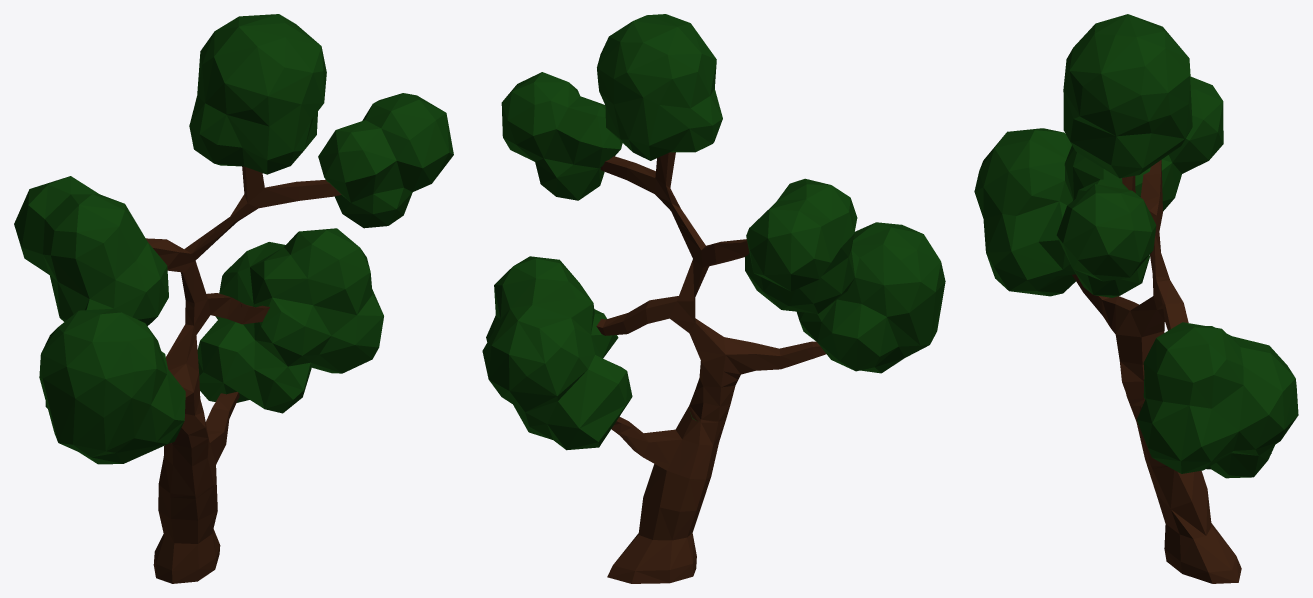
File: Tree5_Destr.FBX
The picture shows the model from 3 angles, left to right: view 1: azimuth 30°, elevation 25°; view 2: azimuth 150°, elevation 25°; view 3: azimuth 270°, elevation 25°; orthographic projection. The views are drawn at different scales.
Parts seen in each view (by area): view 1: LowPoly_Tree_05_lowpoly_tree_03_Cube_Part_6, LowPoly_Tree_05_lowpoly_tree_03_Cube_Part_1, LowPoly_Tree_05_lowpoly_tree_03_Cube_Part_8, LowPoly_Tree_05_lowpoly_tree_03_Cube_Part_16, LowPoly_Tree_05_lowpoly_tree_03_Cube_Part_9, LowPoly_Tree_05_lowpoly_tree_03_Cube_Part_12, LowPoly_Tree_05_lowpoly_tree_03_Cube_Part_3, LowPoly_Tree_05_lowpoly_tree_03_Cube_Part_14, LowPoly_Tree_05_lowpoly_tree_03_Cube_Part_17, LowPoly_Tree_05_lowpoly_tree_03_Cube_Part_11, LowPoly_Tree_05_lowpoly_tree_03_Cube_Part_4, LowPoly_Tree_05_lowpoly_tree_03_Cube_Part_7 (+9 smaller); view 2: LowPoly_Tree_05_lowpoly_tree_03_Cube_Part_4, LowPoly_Tree_05_lowpoly_tree_03_Cube_Part_9, LowPoly_Tree_05_lowpoly_tree_03_Cube_Part_19, LowPoly_Tree_05_lowpoly_tree_03_Cube_Part_17, LowPoly_Tree_05_lowpoly_tree_03_Cube_Part_11, LowPoly_Tree_05_lowpoly_tree_03_Cube_Part_12, LowPoly_Tree_05_lowpoly_tree_03_Cube_Part_6, LowPoly_Tree_05_lowpoly_tree_03_Cube_Part_3, LowPoly_Tree_05_lowpoly_tree_03_Cube_Part_2, LowPoly_Tree_05_lowpoly_tree_03_Cube_Part_7, LowPoly_Tree_05_lowpoly_tree_03_Cube_Part_13_Part_1, LowPoly_Tree_05_lowpoly_tree_03_Cube_Part_18 (+8 smaller); view 3: LowPoly_Tree_05_lowpoly_tree_03_Cube_Part_6, LowPoly_Tree_05_lowpoly_tree_03_Cube_Part_1, LowPoly_Tree_05_lowpoly_tree_03_Cube_Part_3, LowPoly_Tree_05_lowpoly_tree_03_Cube_Part_17, LowPoly_Tree_05_lowpoly_tree_03_Cube_Part_15, LowPoly_Tree_05_lowpoly_tree_03_Cube_Part_5, LowPoly_Tree_05_lowpoly_tree_03_Cube_Part_4, LowPoly_Tree_05_lowpoly_tree_03_Cube_Part_18, LowPoly_Tree_05_lowpoly_tree_03_Cube_Part_9, LowPoly_Tree_05_lowpoly_tree_03_Cube_Part_13_Part_1, LowPoly_Tree_05_lowpoly_tree_03_Cube_Part_20, LowPoly_Tree_05_lowpoly_tree_03_Cube_Part_12 (+6 smaller).
Part boxes in pixels (bbox=[...]): LowPoly_Tree_05_lowpoly_tree_03_Cube_Part_6: bbox=[197, 254, 383, 417]; LowPoly_Tree_05_lowpoly_tree_03_Cube_Part_1: bbox=[228, 21, 399, 174]; LowPoly_Tree_05_lowpoly_tree_03_Cube_Part_8: bbox=[53, 202, 167, 302]; LowPoly_Tree_05_lowpoly_tree_03_Cube_Part_16: bbox=[41, 344, 147, 449]; LowPoly_Tree_05_lowpoly_tree_03_Cube_Part_9: bbox=[189, 14, 291, 162]; LowPoly_Tree_05_lowpoly_tree_03_Cube_Part_12: bbox=[216, 97, 398, 235]; LowPoly_Tree_05_lowpoly_tree_03_Cube_Part_3: bbox=[369, 93, 453, 207]; LowPoly_Tree_05_lowpoly_tree_03_Cube_Part_14: bbox=[310, 168, 406, 291]; LowPoly_Tree_05_lowpoly_tree_03_Cube_Part_17: bbox=[153, 468, 220, 583]; LowPoly_Tree_05_lowpoly_tree_03_Cube_Part_11: bbox=[14, 176, 121, 288]; LowPoly_Tree_05_lowpoly_tree_03_Cube_Part_4: bbox=[197, 228, 342, 350]; LowPoly_Tree_05_lowpoly_tree_03_Cube_Part_7: bbox=[40, 293, 134, 371]; LowPoly_Tree_05_lowpoly_tree_03_Cube_Part_4: bbox=[482, 259, 646, 428]; LowPoly_Tree_05_lowpoly_tree_03_Cube_Part_9: bbox=[605, 15, 722, 152]; LowPoly_Tree_05_lowpoly_tree_03_Cube_Part_19: bbox=[802, 267, 927, 371]; LowPoly_Tree_05_lowpoly_tree_03_Cube_Part_17: bbox=[607, 464, 709, 583]; LowPoly_Tree_05_lowpoly_tree_03_Cube_Part_11: bbox=[763, 181, 854, 282]; LowPoly_Tree_05_lowpoly_tree_03_Cube_Part_12: bbox=[536, 80, 687, 228]; LowPoly_Tree_05_lowpoly_tree_03_Cube_Part_6: bbox=[486, 271, 634, 450]; LowPoly_Tree_05_lowpoly_tree_03_Cube_Part_3: bbox=[501, 72, 587, 194]; LowPoly_Tree_05_lowpoly_tree_03_Cube_Part_2: bbox=[678, 224, 844, 363]; LowPoly_Tree_05_lowpoly_tree_03_Cube_Part_7: bbox=[847, 223, 930, 294]; LowPoly_Tree_05_lowpoly_tree_03_Cube_Part_13_Part_1: bbox=[643, 296, 798, 379]; LowPoly_Tree_05_lowpoly_tree_03_Cube_Part_18: bbox=[682, 211, 810, 291]; LowPoly_Tree_05_lowpoly_tree_03_Cube_Part_6: bbox=[1136, 320, 1286, 478]; LowPoly_Tree_05_lowpoly_tree_03_Cube_Part_1: bbox=[1063, 28, 1150, 199]; LowPoly_Tree_05_lowpoly_tree_03_Cube_Part_3: bbox=[1056, 187, 1156, 295]; LowPoly_Tree_05_lowpoly_tree_03_Cube_Part_17: bbox=[1146, 464, 1241, 583]; LowPoly_Tree_05_lowpoly_tree_03_Cube_Part_15: bbox=[981, 139, 1082, 243]; LowPoly_Tree_05_lowpoly_tree_03_Cube_Part_5: bbox=[980, 188, 1093, 301]; LowPoly_Tree_05_lowpoly_tree_03_Cube_Part_4: bbox=[1168, 302, 1298, 431]; LowPoly_Tree_05_lowpoly_tree_03_Cube_Part_18: bbox=[1135, 96, 1223, 201]; LowPoly_Tree_05_lowpoly_tree_03_Cube_Part_9: bbox=[1090, 14, 1191, 108]; LowPoly_Tree_05_lowpoly_tree_03_Cube_Part_13_Part_1: bbox=[1091, 276, 1182, 345]; LowPoly_Tree_05_lowpoly_tree_03_Cube_Part_20: bbox=[1147, 69, 1192, 158]; LowPoly_Tree_05_lowpoly_tree_03_Cube_Part_12: bbox=[1073, 121, 1165, 200].
Bounding box in the file's own units: 8.5 × 10.45 × 5.49.
